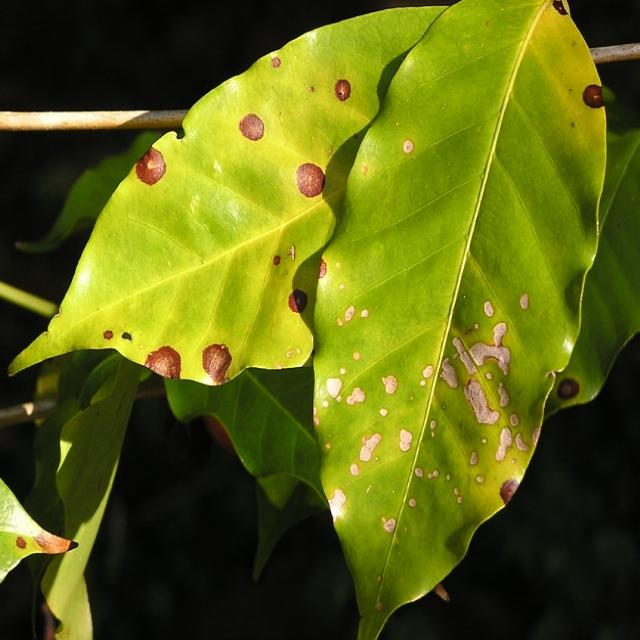Enfermedad-Mancha-de-hierro: (8, 0, 608, 640)
